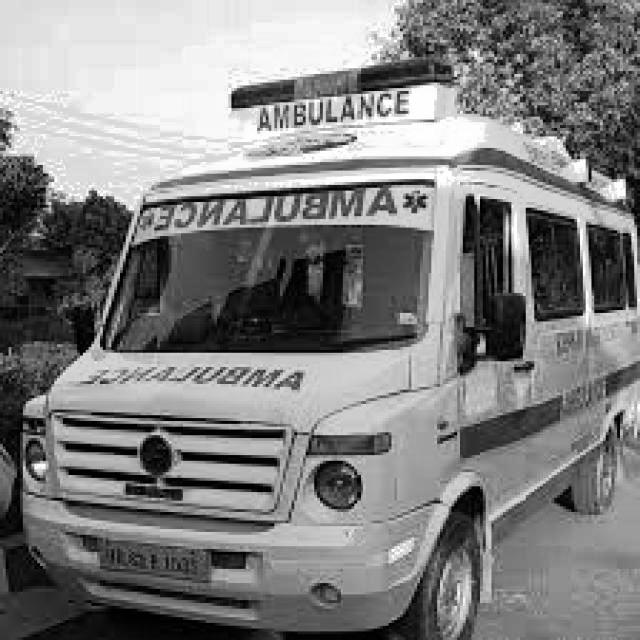LCV: (21, 56, 533, 633)
